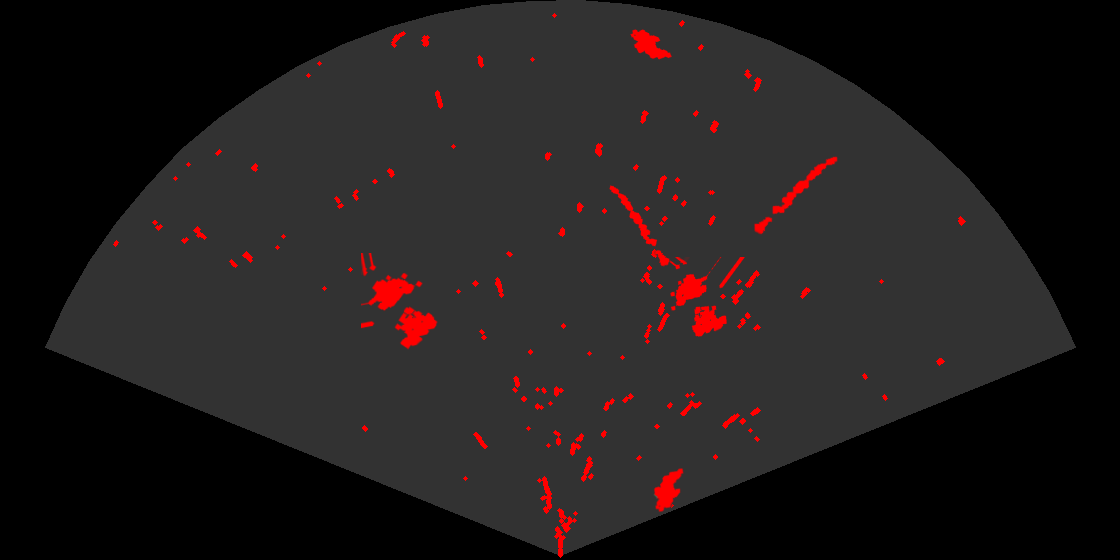AUV: (652, 467, 685, 514), (629, 28, 673, 61)
cage: (361, 253, 439, 351), (662, 257, 746, 338)
chain: (752, 155, 839, 236), (608, 184, 671, 268)
